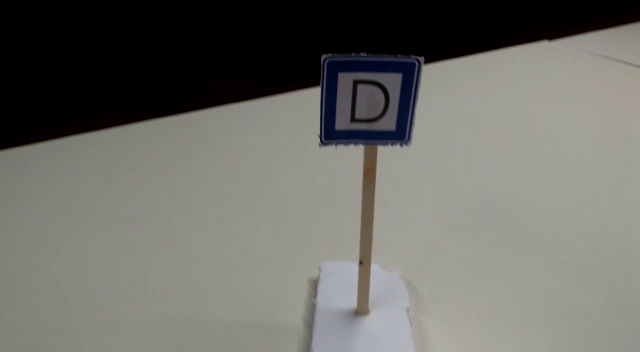durak: (321, 56, 422, 143)
